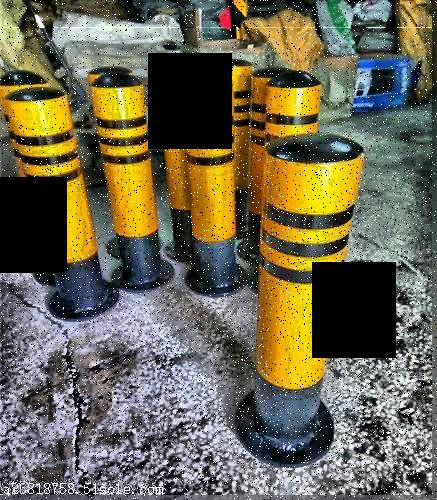bench: (229, 131, 366, 465)
